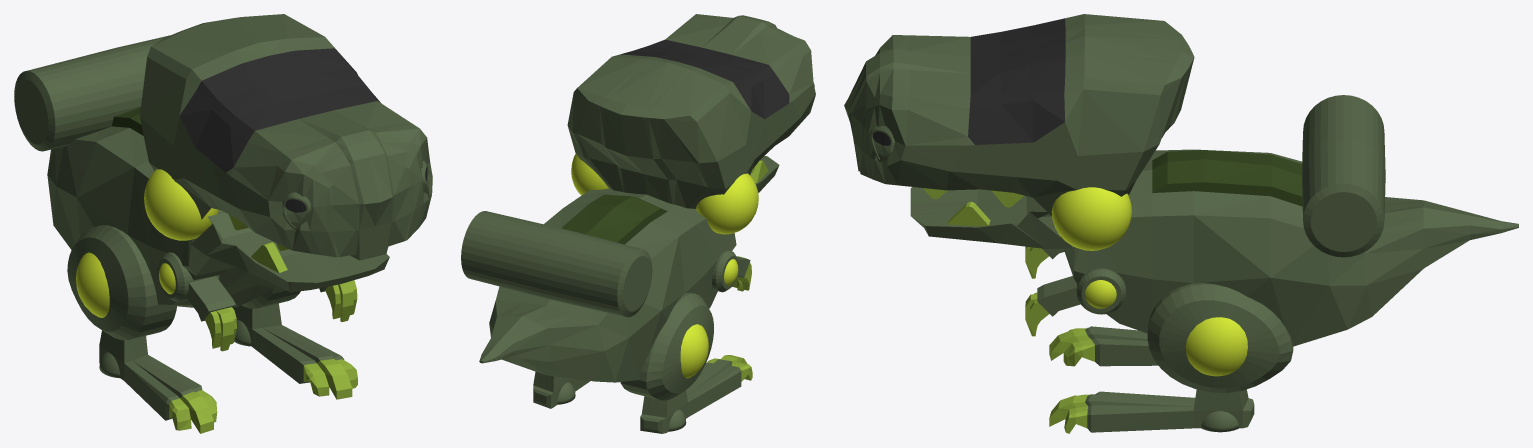
File: trex.dae
3 renders of one model, left to right at view 1: azimuth 30°, elevation 25°; view 2: azimuth 150°, elevation 25°; view 3: azimuth 270°, elevation 25°, orthographic. The views are drawn at different scales.
Visible parts, largest first — view 1: Cube_006, Cube, Cube_007, Cube_001, Cube_016, Cube_004, Cube_019, Cube_008, Cube_018, Cube_002, Cube_015, Cube_005 (+9 smaller); view 2: Cube_006, Cube, Cube_007, Cube_001, Cube_008, Cube_004, Cube_002, Cube_019, Cube_010, Cube_015, Cube_016; view 3: Cube_006, Cube, Cube_007, Cube_003, Cube_016, Cube_019, Cube_008, Cube_013, Cube_004, Cube_015, Cube_023, Cube_010 (+4 smaller).
Part boxes in pixels (left/top/right/bottom): Cube_006: left=140, top=14, right=432, bottom=260; Cube: left=47, top=107, right=277, bottom=307; Cube_007: left=14, top=35, right=169, bottom=151; Cube_001: left=67, top=225, right=176, bottom=340; Cube_016: left=191, top=212, right=389, bottom=292; Cube_004: left=99, top=330, right=202, bottom=420; Cube_019: left=233, top=303, right=344, bottom=383; Cube_008: left=144, top=169, right=218, bottom=240; Cube_018: left=303, top=359, right=357, bottom=399; Cube_002: left=76, top=252, right=109, bottom=317; Cube_015: left=169, top=390, right=217, bottom=433; Cube_005: left=186, top=276, right=235, bottom=321; Cube_006: left=567, top=14, right=815, bottom=208; Cube: left=479, top=188, right=736, bottom=382; Cube_007: left=461, top=211, right=652, bottom=317; Cube_001: left=620, top=292, right=713, bottom=400; Cube_008: left=571, top=153, right=758, bottom=234; Cube_004: left=640, top=359, right=741, bottom=433; Cube_002: left=680, top=324, right=708, bottom=378; Cube_019: left=533, top=371, right=590, bottom=408; Cube_010: left=712, top=250, right=739, bottom=292; Cube_015: left=707, top=355, right=752, bottom=381; Cube_016: left=755, top=155, right=779, bottom=192; Cube_006: left=844, top=14, right=1194, bottom=215; Cube: left=1061, top=149, right=1518, bottom=346; Cube_007: left=1302, top=95, right=1385, bottom=257; Cube_003: left=1147, top=283, right=1293, bottom=392; Cube_016: left=910, top=187, right=1073, bottom=249; Cube_019: left=1085, top=389, right=1254, bottom=432; Cube_008: left=1051, top=187, right=1131, bottom=250; Cube_013: left=1185, top=317, right=1247, bottom=376; Cube_004: left=1085, top=326, right=1158, bottom=366; Cube_015: left=1049, top=328, right=1094, bottom=366; Cube_023: left=1037, top=276, right=1080, bottom=316; Cube_010: left=1076, top=268, right=1126, bottom=314.
Size of the model in its own units: 4.95 by 13.39 by 7.76.
